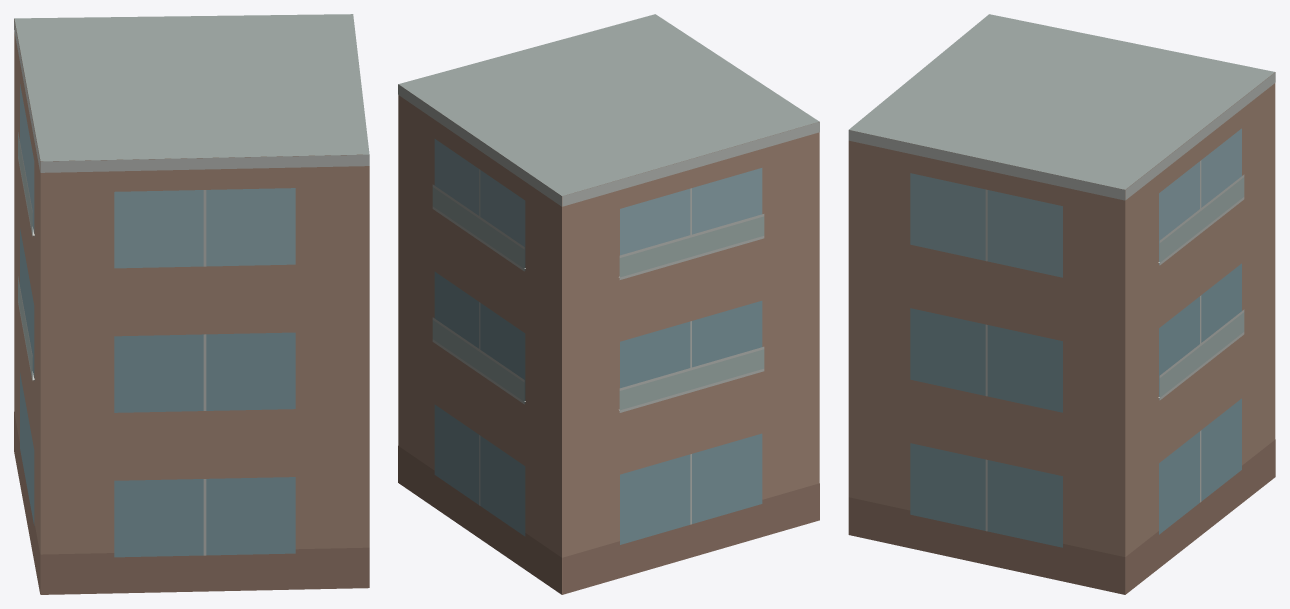
The model's file is survey-upis-32499725.glb.
The picture shows the model from 3 angles, left to right: view 1: azimuth 30°, elevation 25°; view 2: azimuth 150°, elevation 25°; view 3: azimuth 270°, elevation 25°; orthographic projection. The views are drawn at different scales.
Parts seen in each view (by area): view 1: survey-upis-32499725.tmp; view 2: survey-upis-32499725.tmp; view 3: survey-upis-32499725.tmp.
Part boxes in pixels (x1,y1,x2,y2): survey-upis-32499725.tmp: [14, 14, 369, 594]; survey-upis-32499725.tmp: [398, 14, 819, 594]; survey-upis-32499725.tmp: [848, 14, 1275, 594].
Bounding box in the file's own units: 8.52 × 9.15 × 8.75.
